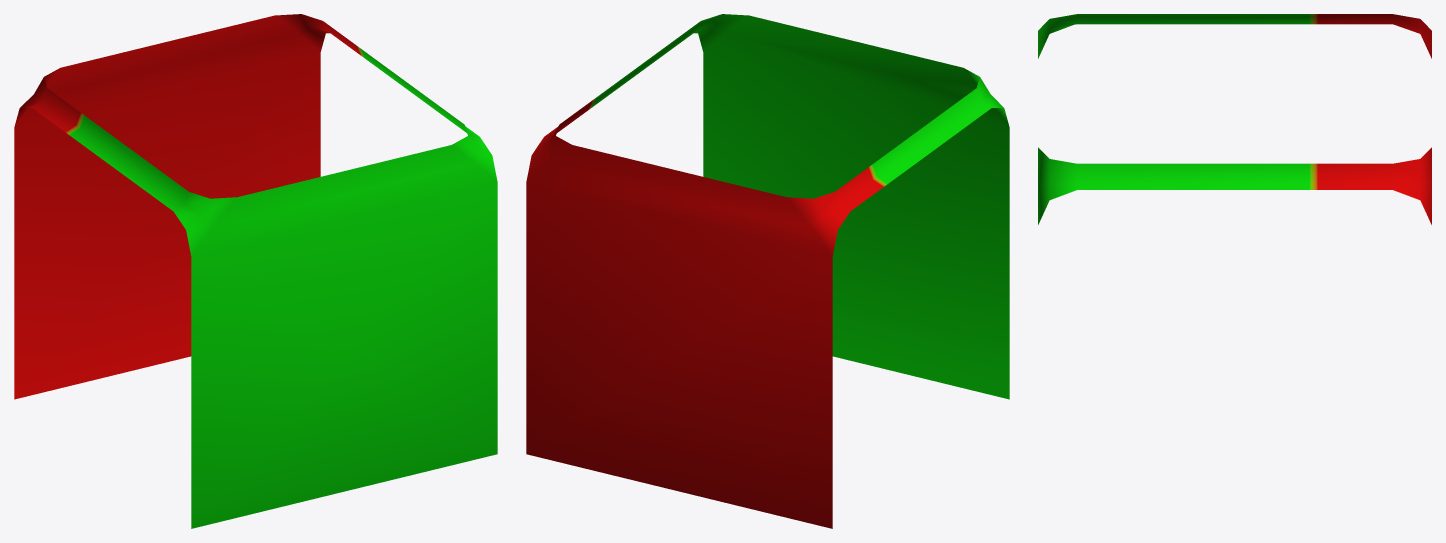
Rendered from Grass-┘  └.fbx.
3 views of the same model, side by side, from view 1: azimuth 30°, elevation 25°; view 2: azimuth 150°, elevation 25°; view 3: azimuth 270°, elevation 25° (orthographic). The views are drawn at different scales.
Visible parts, largest first — view 1: Grass-┘ └; view 2: Grass-┘ └; view 3: Grass-┘ └.
Part boxes in pixels (bbox=[...]): Grass-┘ └: bbox=[14, 14, 497, 528]; Grass-┘ └: bbox=[526, 14, 1009, 528]; Grass-┘ └: bbox=[1038, 14, 1431, 224].
Bounding box in the file's own units: 100 × 100 × 100.
